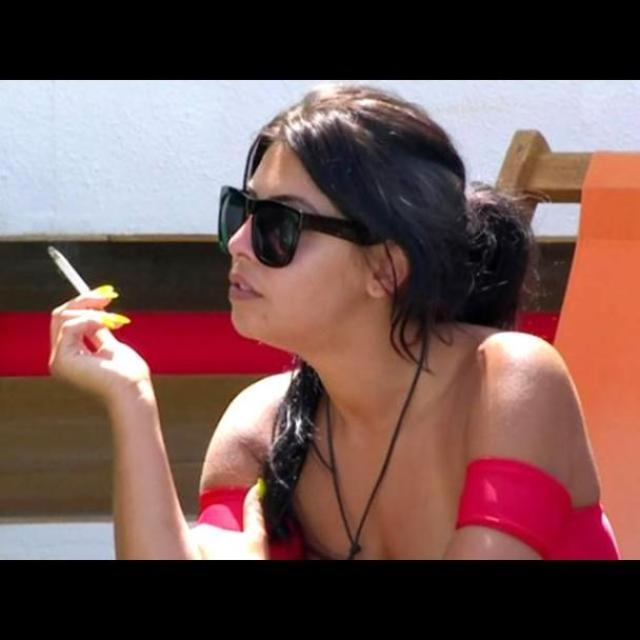rokok: (48, 242, 100, 310)
